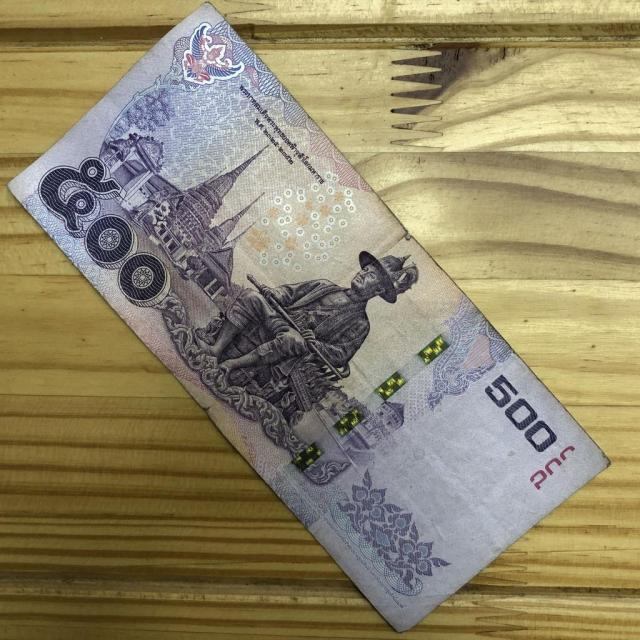THAI500: (8, 4, 611, 633)
